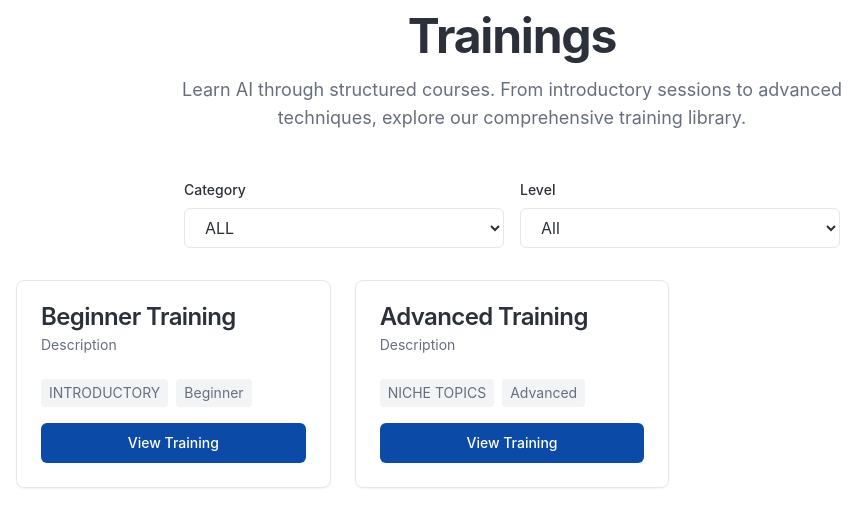
Test: Training Page › Filtering › should filter trainings by level
The width and height of the screenshot is (858, 505).
Expected: the text "Beginner Training" is shown, [41, 302, 236, 331]
Expected: the text "Advanced Training" is shown, [380, 302, 588, 331]
Find and interact with level filter
Select "Advanced" in the dropdown labelled "Level". click: (680, 228)
box: [520, 208, 840, 248]
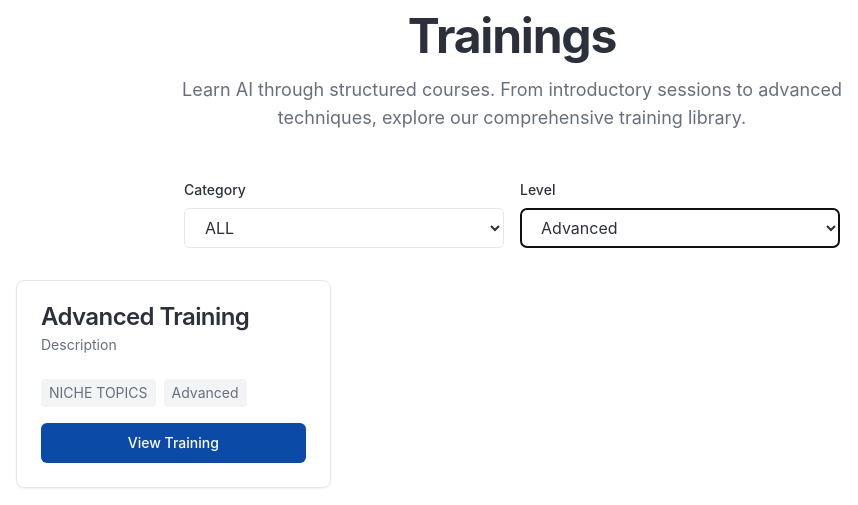
Expected: the text "Advanced Training" is shown, [41, 302, 249, 331]
Now the text "Beginner Training" is gone
